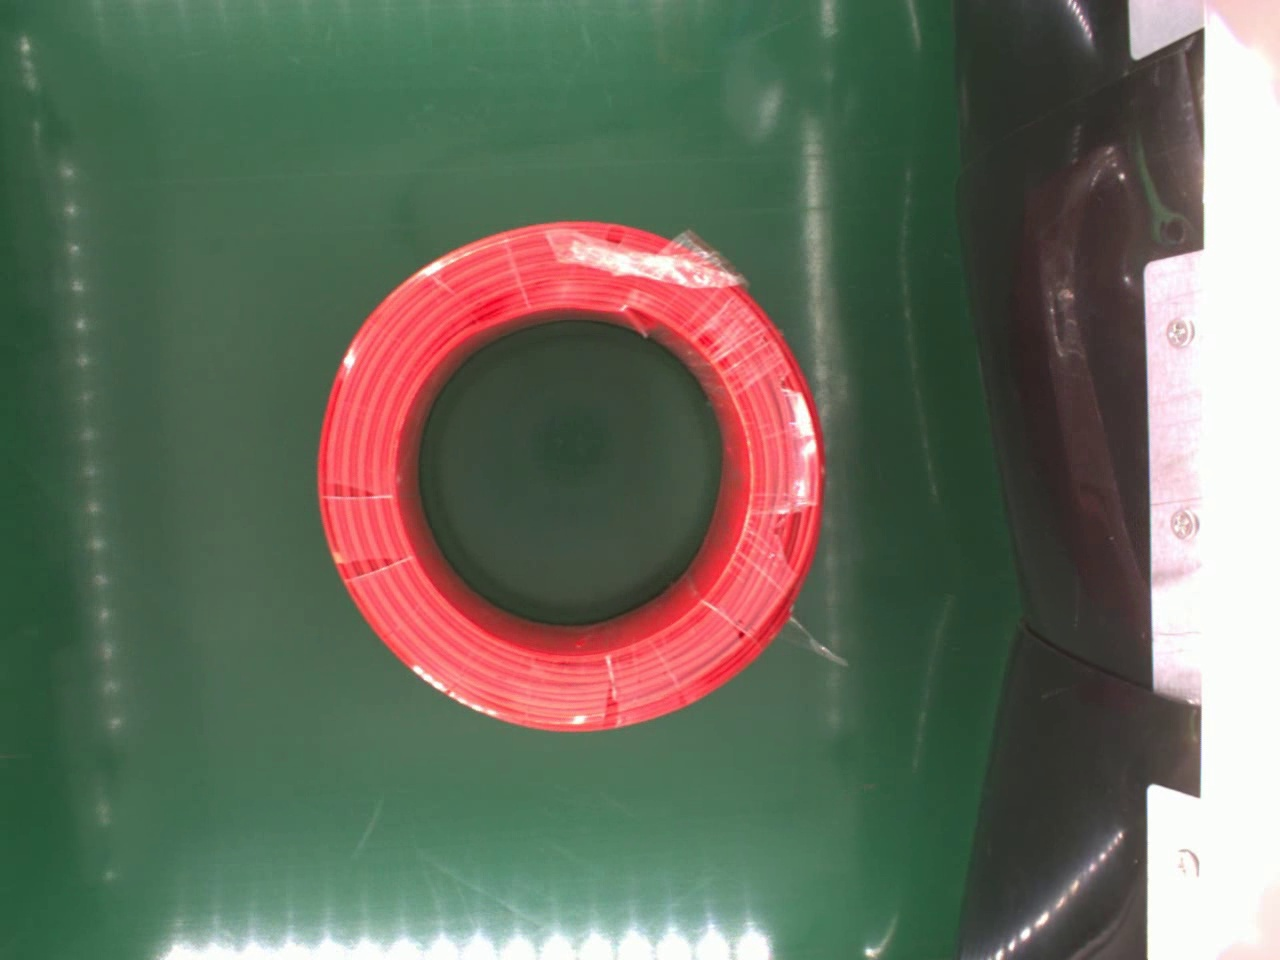red: (311, 218, 831, 737)
